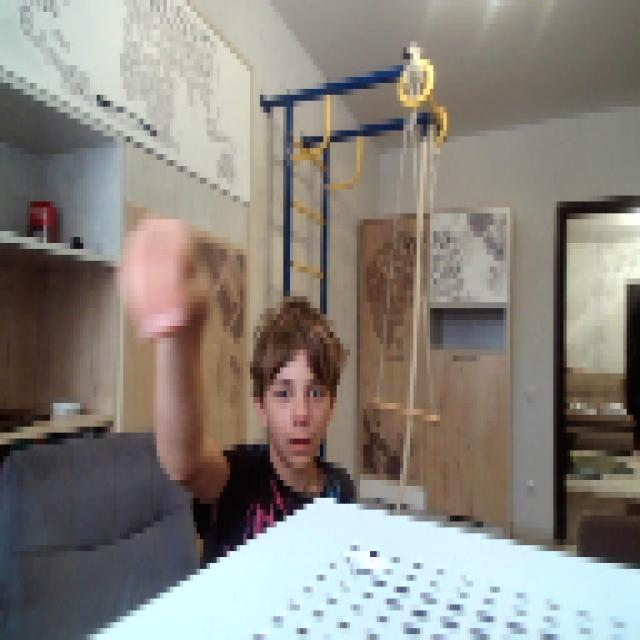left_click: (117, 207, 210, 344)
